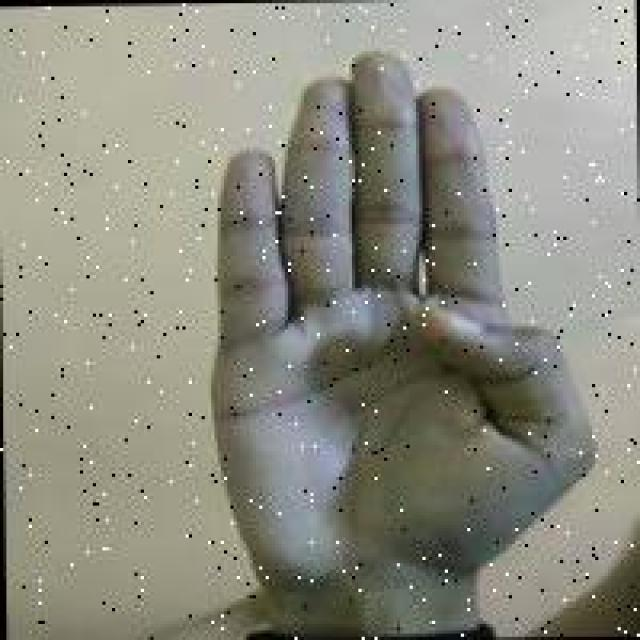B: (206, 45, 613, 621)
